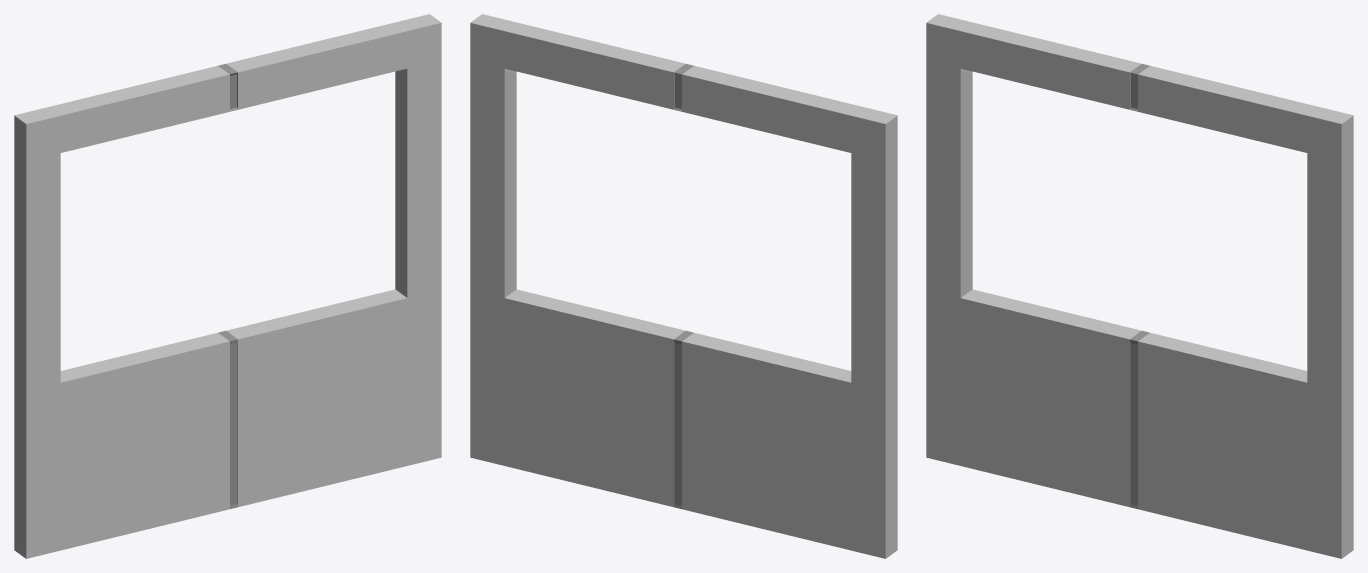
File: ConcreteWindowframe.fbx
The picture shows the model from 3 angles, left to right: view 1: azimuth 30°, elevation 25°; view 2: azimuth 150°, elevation 25°; view 3: azimuth 330°, elevation 25°; orthographic projection.
Visible parts, largest first — view 1: ConcreteWindowframe; view 2: ConcreteWindowframe; view 3: ConcreteWindowframe.
Boxes of the visible parts, x1,y1,x2,y2 form: ConcreteWindowframe: (14,14,441,558); ConcreteWindowframe: (470,14,897,558); ConcreteWindowframe: (926,14,1353,558).
Size of the model in its own units: 200 by 200 by 10.
